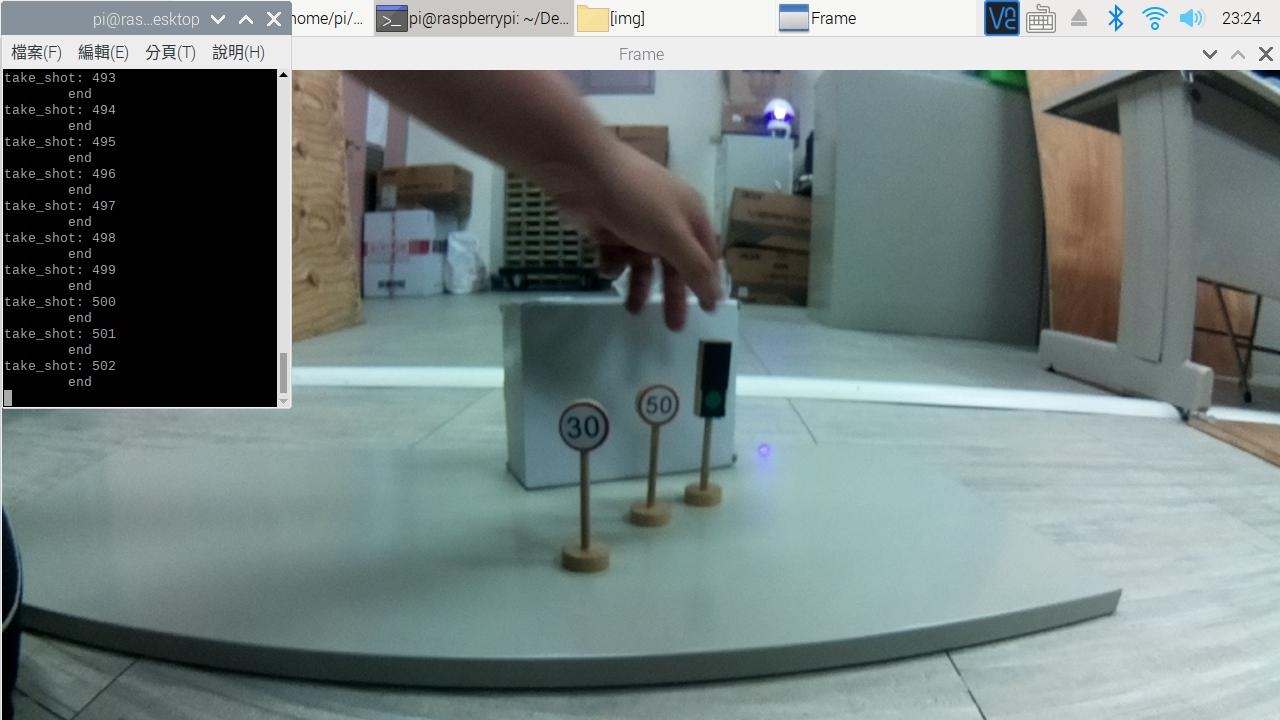Green: (687, 333, 746, 426)
Speed30: (552, 386, 613, 460)
Speed50: (621, 379, 689, 443)
